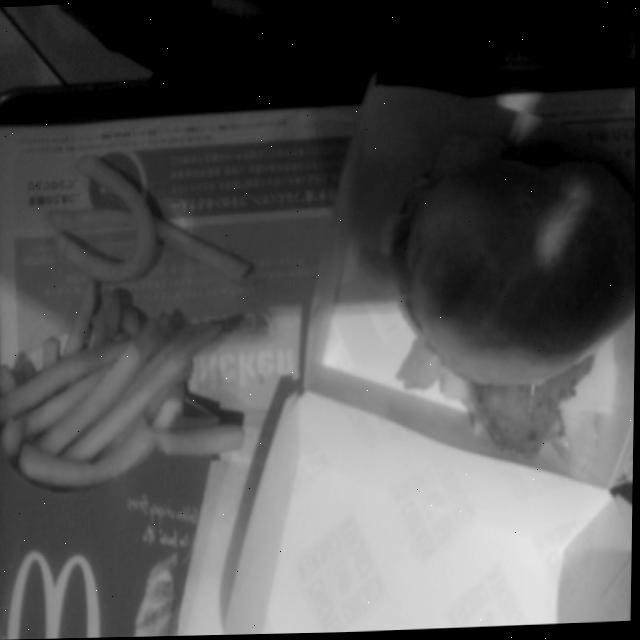炸货点心: (0, 299, 230, 640)
